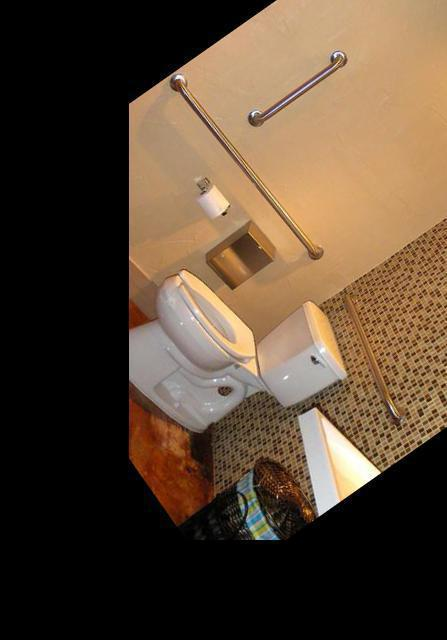Sanitario: (79, 206, 366, 489)
